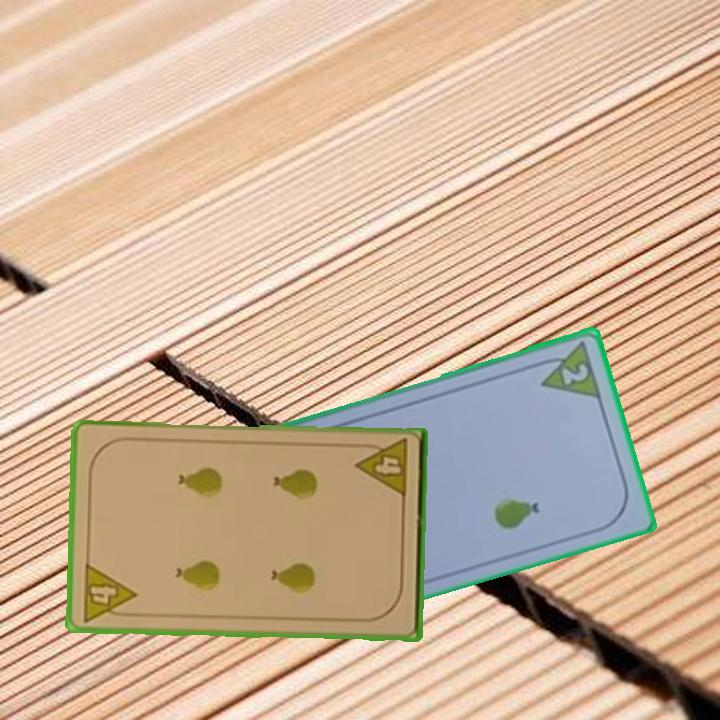2p: (532, 337, 605, 401)
4p: (78, 559, 139, 625), (353, 435, 411, 501)
